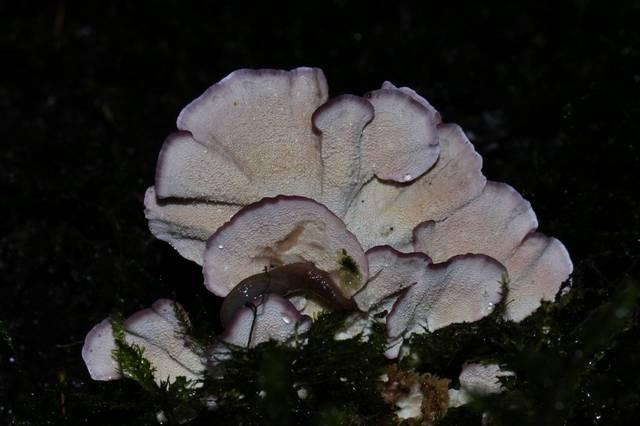Non-edible Mushroom: (140, 64, 574, 360), (80, 296, 211, 397)
